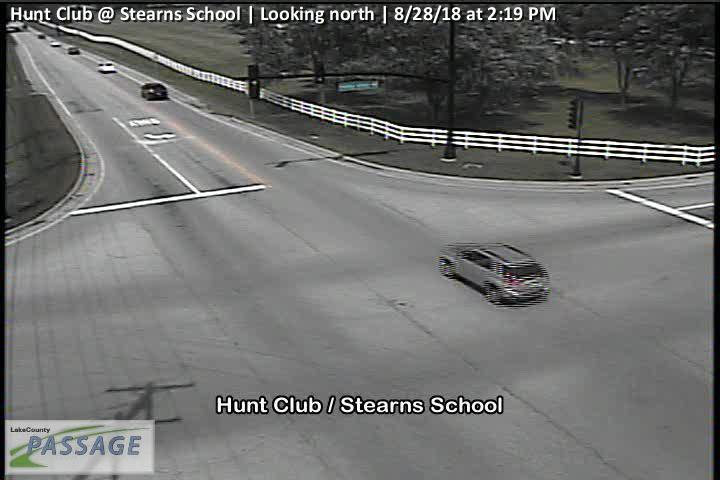SUV: (438, 242, 551, 306)
Sedan: (140, 83, 168, 100), (97, 61, 115, 73), (68, 46, 80, 55)
